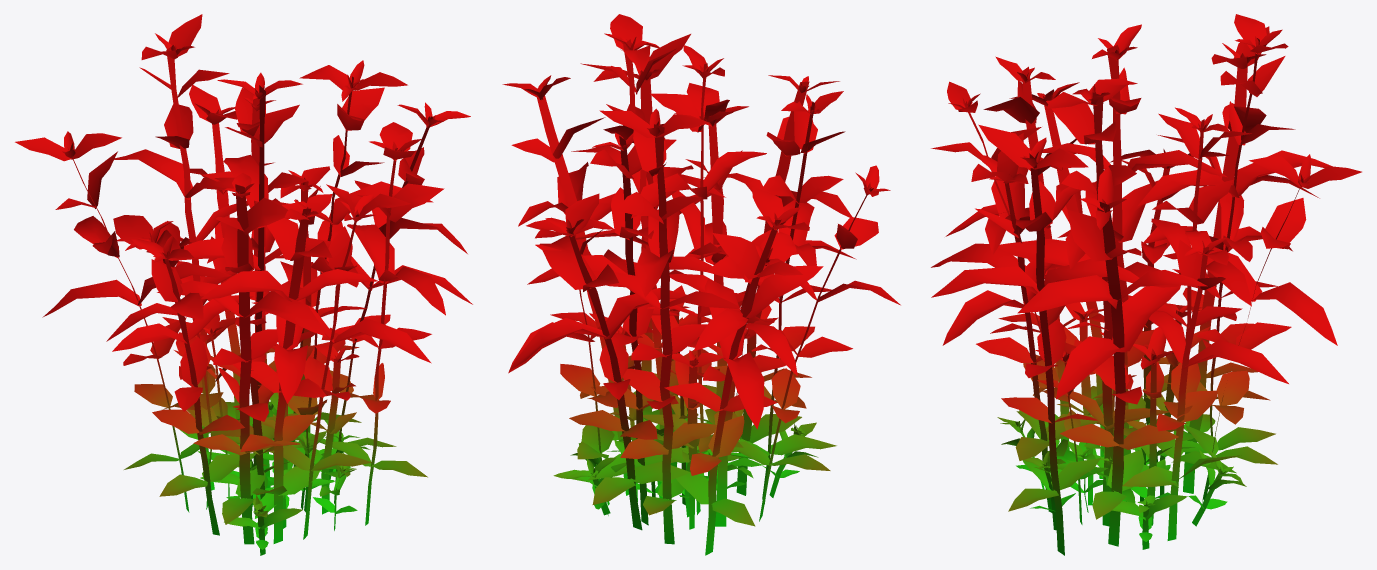
The model's file is Var2_LOD4.fbx.
3 views of the same model, side by side, from view 1: azimuth 30°, elevation 25°; view 2: azimuth 150°, elevation 25°; view 3: azimuth 270°, elevation 25° (orthographic). The views are drawn at different scales.
Visible parts, largest first — view 1: _uada_Var2_LOD4; view 2: _uada_Var2_LOD4; view 3: _uada_Var2_LOD4.
Boxes of the visible parts, x1=… form: _uada_Var2_LOD4: x1=15, y1=14, x2=472, y2=555; _uada_Var2_LOD4: x1=502, y1=14, x2=900, y2=555; _uada_Var2_LOD4: x1=931, y1=14, x2=1361, y2=555.
Size of the model in its own units: 48.14 by 54.71 by 45.07.
